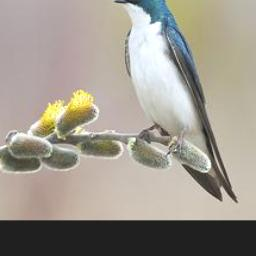Swallow: (113, 0, 239, 206)
